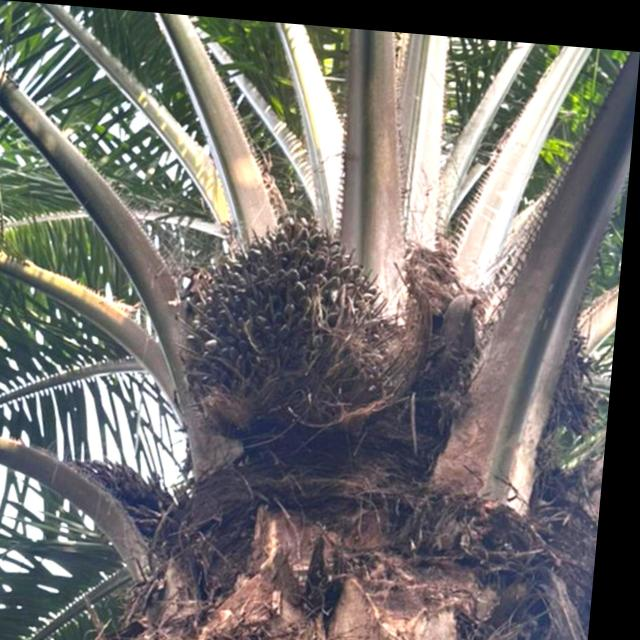almost: (174, 195, 416, 445)
